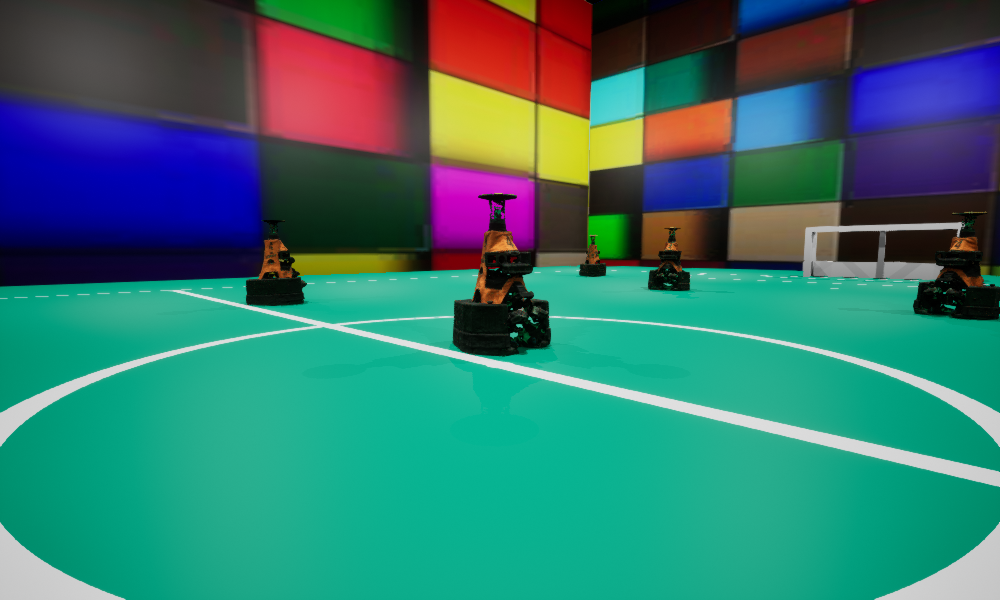0 orange robot TechUnited: (453, 193, 550, 355), (913, 212, 999, 318), (246, 220, 306, 305), (648, 227, 689, 289), (579, 235, 605, 276)
